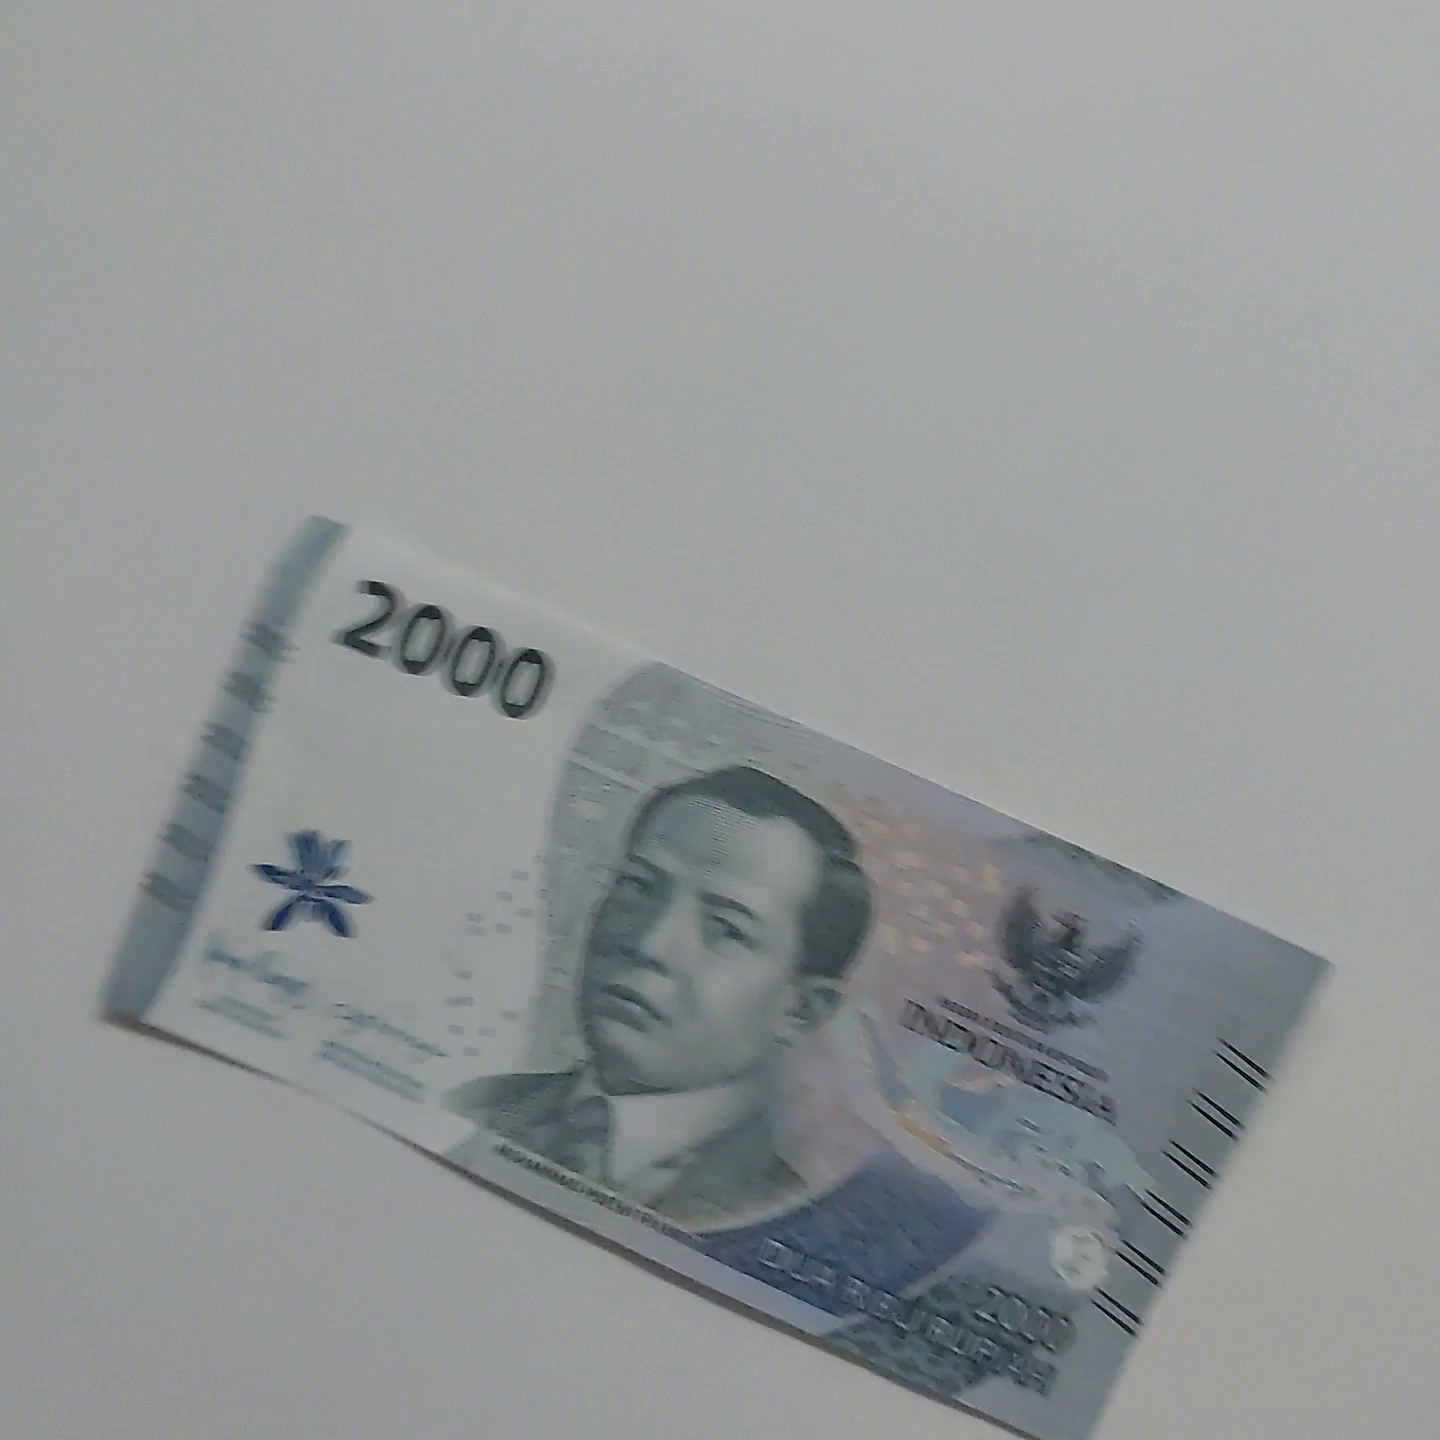2k: (91, 465, 1366, 1440)
